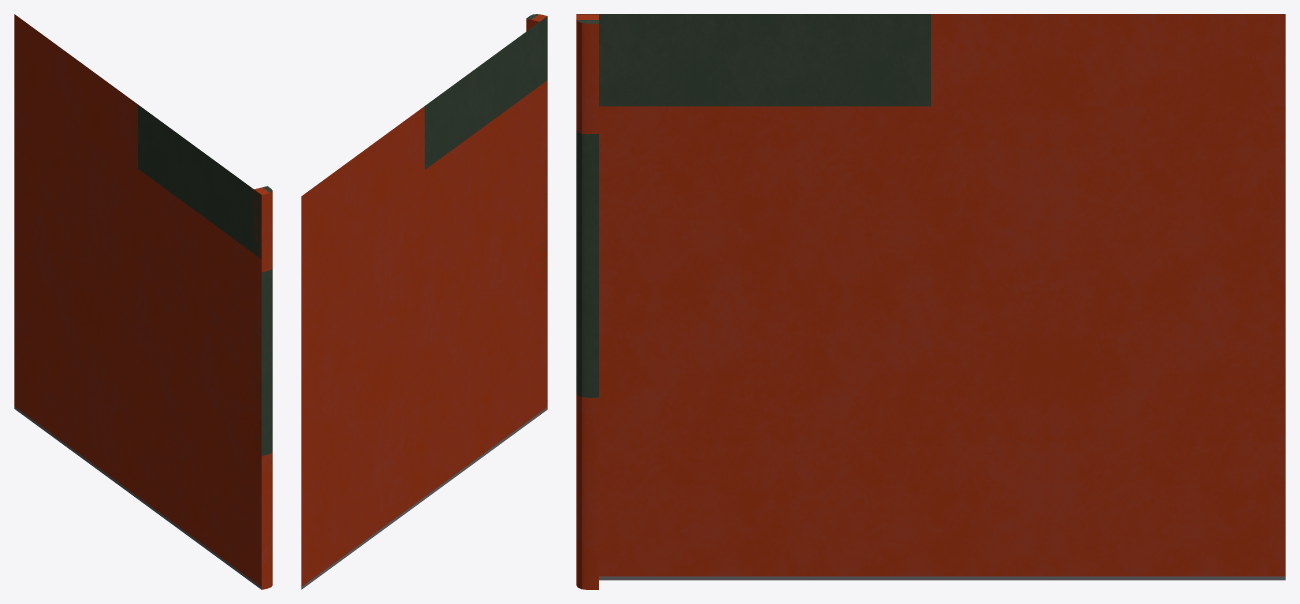
File: Wall1.fbx
3 views of the same model, side by side, from view 1: azimuth 30°, elevation 25°; view 2: azimuth 150°, elevation 25°; view 3: azimuth 270°, elevation 25° (orthographic). The views are drawn at different scales.
Visible parts, largest first — view 1: polySurface142; view 2: polySurface142; view 3: polySurface142.
Part boxes in pixels (x1,y1,x2,y2): polySurface142: [14, 14, 272, 589]; polySurface142: [301, 14, 547, 589]; polySurface142: [576, 14, 1285, 589].
Bounding box in the file's own units: 0.0935 × 2.58 × 2.92.
